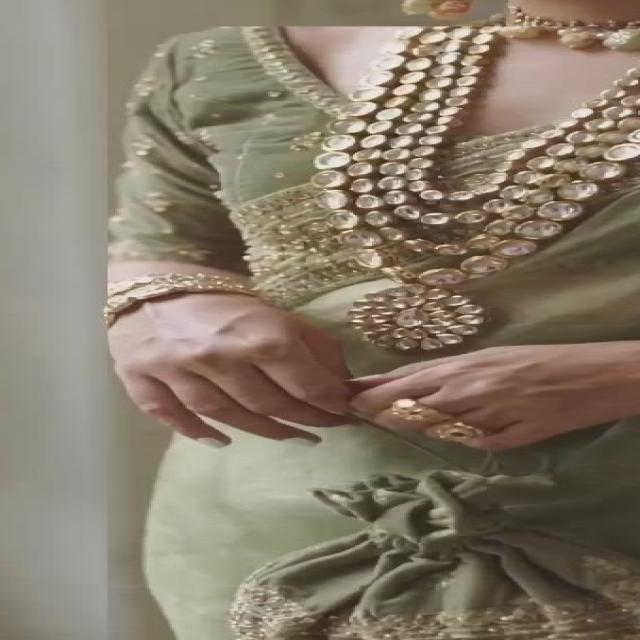Saree: (107, 26, 640, 639)
